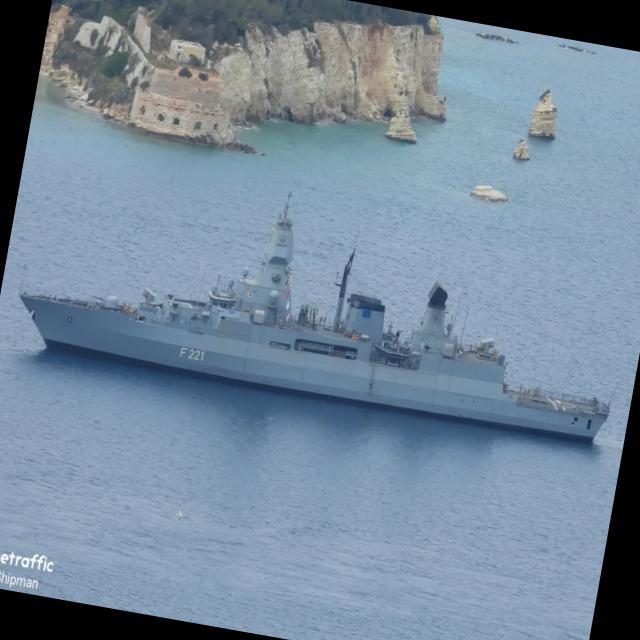Military: (20, 198, 608, 442)
